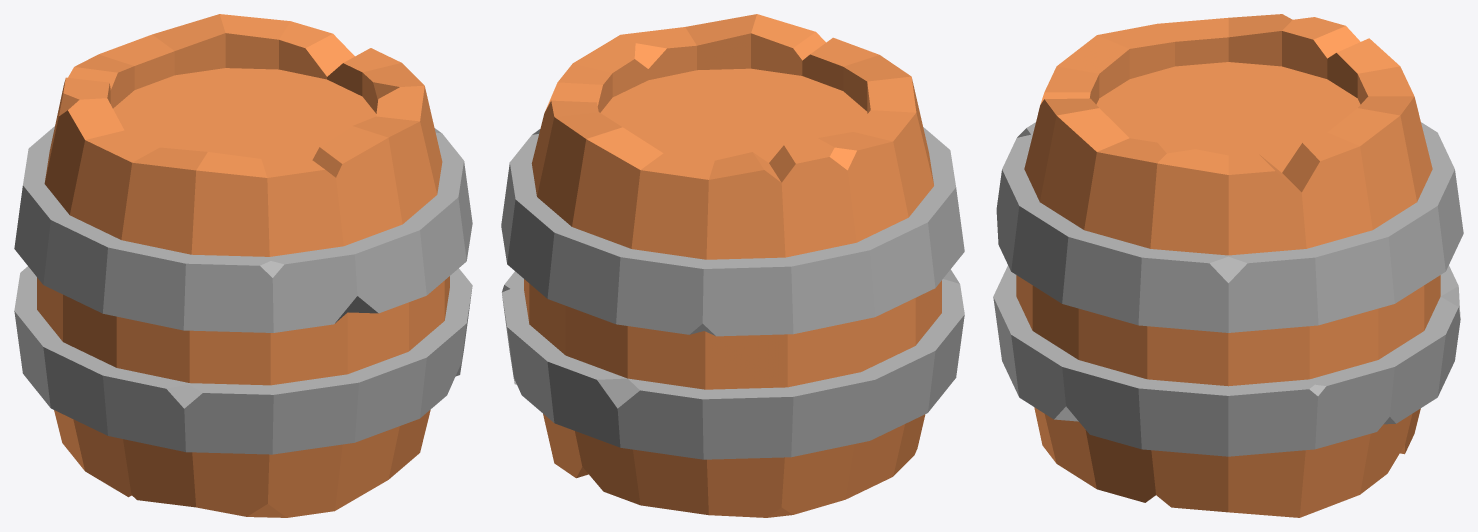
Rendered from Barrel.fbx.
The picture shows the model from 3 angles, left to right: view 1: azimuth 30°, elevation 25°; view 2: azimuth 150°, elevation 25°; view 3: azimuth 270°, elevation 25°; orthographic projection.
Visible parts, largest first — view 1: Cylinder.002; view 2: Cylinder.002; view 3: Cylinder.002.
Part boxes in pixels (bbox=[...]): Cylinder.002: bbox=[14, 14, 472, 517]; Cylinder.002: bbox=[501, 14, 964, 517]; Cylinder.002: bbox=[993, 14, 1463, 517].
Bounding box in the file's own units: 253 × 213 × 253.
1 material, 1 textured.
